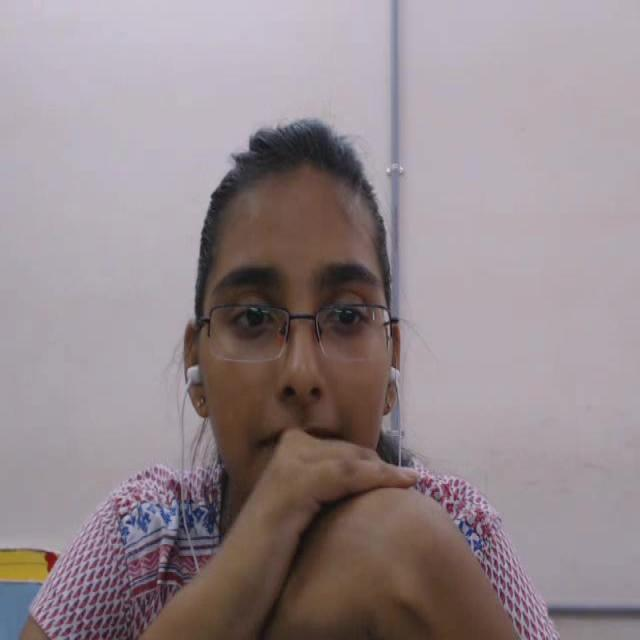Bored: (164, 97, 438, 488)
